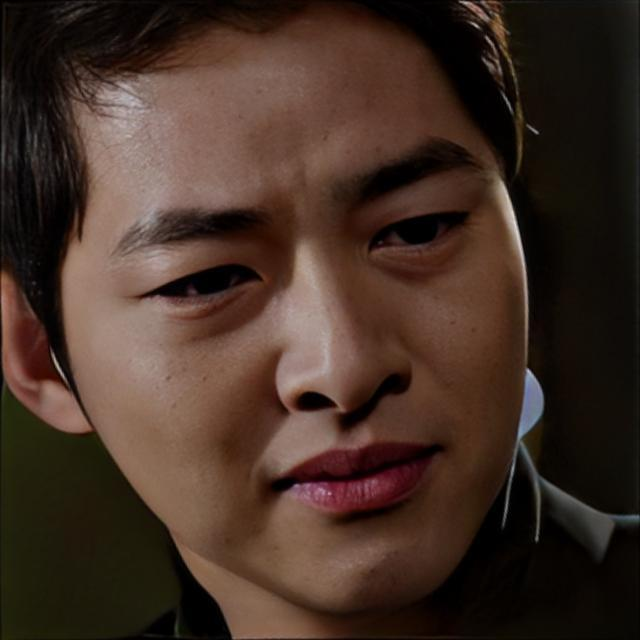sad: (70, 18, 526, 604)
